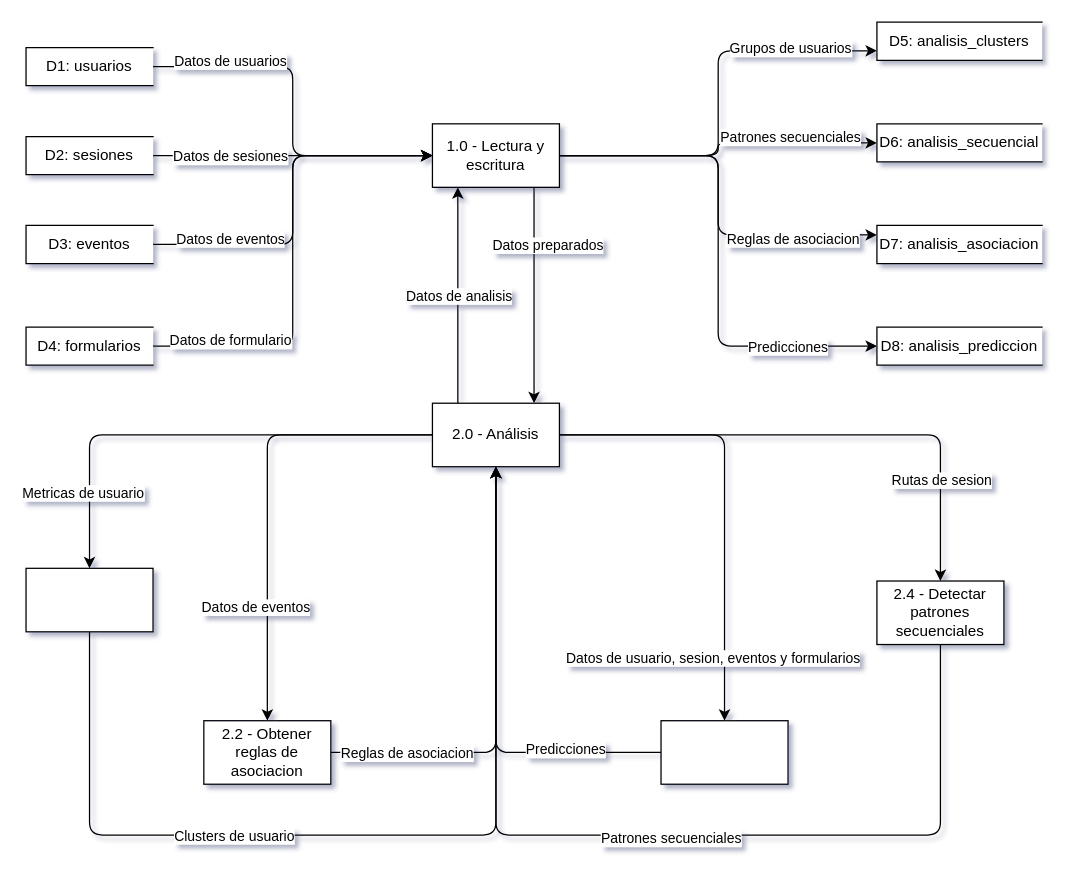
The diagram is 1072 pixels wide and 876 high, and some of its shapes have lost their labels. Each missing label, with the box of its shape:
2.1.1 - Segmentacion de usuarios: (25, 567, 153, 632)
2.3 - Realizar predicciones: (660, 719, 788, 784)
